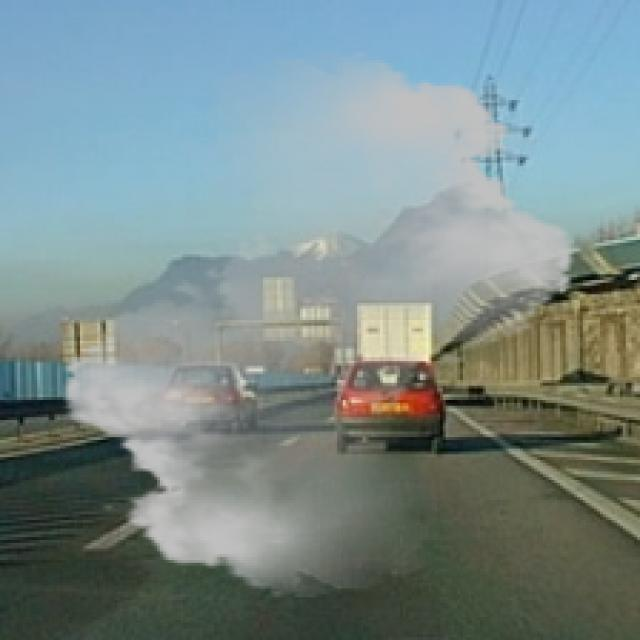Smoke: (46, 52, 592, 598)
